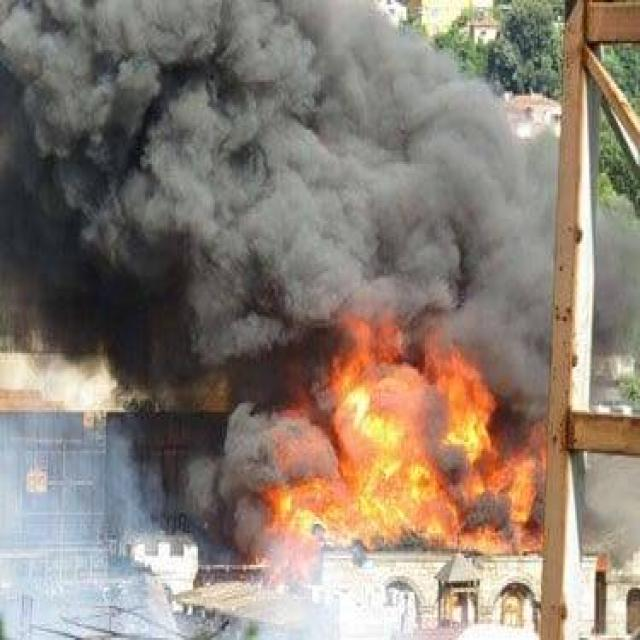Fire: (253, 339, 543, 558)
